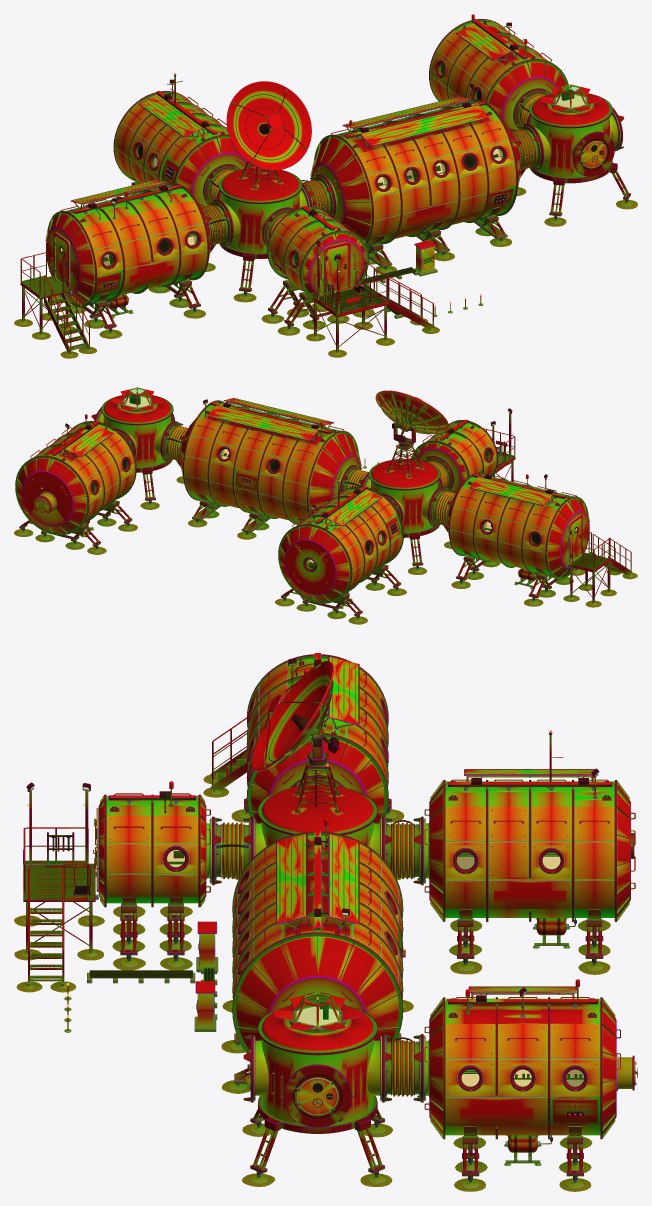
File: home-outpost-v1.glb
3 renders of one model, top to bottom at view 1: azimuth 30°, elevation 25°; view 2: azimuth 150°, elevation 25°; view 3: azimuth 270°, elevation 25°, orthographic. The views are drawn at different scales.
Parts seen in each view (by area): view 1: static_paint, static_frame, static_steel, dish_el_paint, static_regolith, static_anodized, static_signal, static_fabric, static_foil, static_glass, static_black, static_stencil (+2 smaller); view 2: static_paint, static_steel, static_frame, static_regolith, static_anodized, dish_el_paint, static_signal, static_fabric, dish_el_frame, static_foil, static_glass, static_black; view 3: static_paint, static_steel, static_frame, static_regolith, static_anodized, dish_el_paint, static_fabric, static_signal, static_glass, static_foil, static_black, static_stencil (+2 smaller).
Boxes of the visible parts, box(x1,y1,x2,y2) form: static_paint: box(54, 14, 606, 303); static_frame: box(19, 19, 632, 356); static_steel: box(46, 21, 620, 304); dish_el_paint: box(226, 81, 311, 170); static_regolith: box(14, 187, 637, 358); static_anodized: box(59, 20, 628, 332); static_signal: box(21, 26, 612, 329); static_fabric: box(201, 95, 544, 245); static_foil: box(95, 158, 513, 308); static_glass: box(104, 64, 585, 265); static_black: box(93, 47, 608, 314); static_stencil: box(129, 208, 451, 302); static_paint: box(34, 389, 582, 589); static_steel: box(17, 387, 589, 601); static_frame: box(15, 395, 633, 621); static_regolith: box(14, 476, 637, 624); static_anodized: box(22, 395, 580, 618); dish_el_paint: box(375, 390, 448, 433); static_signal: box(27, 403, 631, 587); static_fabric: box(168, 426, 455, 526); dish_el_frame: box(376, 393, 446, 434); static_foil: box(85, 470, 539, 593); static_glass: box(92, 389, 491, 568); static_black: box(90, 406, 556, 580); static_paint: box(23, 653, 635, 1126); static_steel: box(98, 658, 634, 1145); static_frame: box(21, 654, 637, 1188); static_regolith: box(14, 774, 610, 1191); static_anodized: box(26, 658, 636, 1181); dish_el_paint: box(251, 661, 333, 771); static_fabric: box(222, 822, 413, 1096); static_signal: box(23, 672, 635, 1117); static_glass: box(167, 850, 583, 1086); static_foil: box(398, 918, 597, 1152); static_black: box(74, 663, 583, 1152); static_stencil: box(460, 891, 566, 1118).
Bounding box in the file's own units: 27.42 × 8.2 × 17.23.
